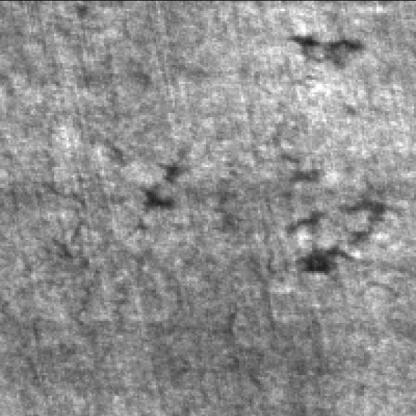crazing: (46, 52, 193, 318), (274, 66, 408, 308)
